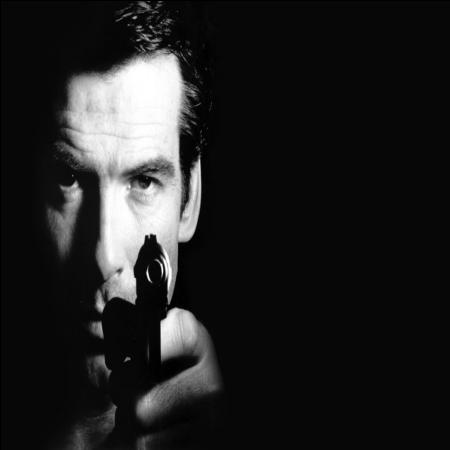Pistol: (126, 227, 178, 369)
